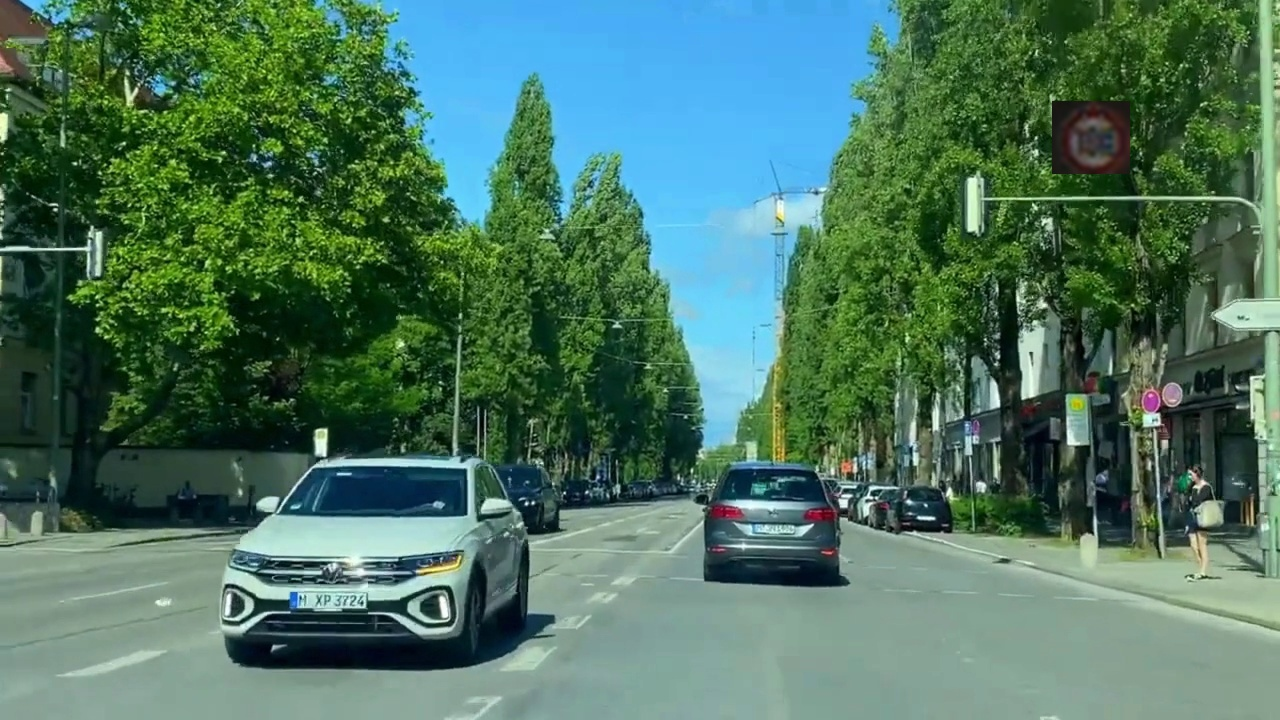Speed 100: (1052, 101, 1130, 174)
